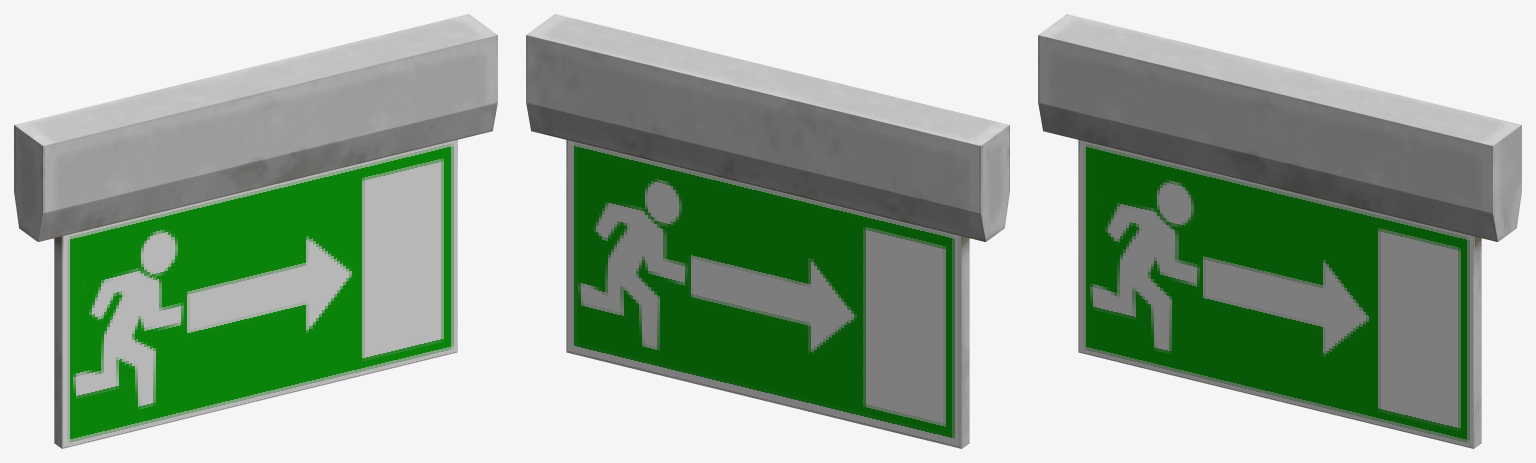
Rendered from Exit_sign.glb.
The picture shows the model from 3 angles, left to right: view 1: azimuth 30°, elevation 25°; view 2: azimuth 150°, elevation 25°; view 3: azimuth 330°, elevation 25°; orthographic projection.
Visible parts, largest first — view 1: Exit_sign.001; view 2: Exit_sign.001; view 3: Exit_sign.001.
Boxes of the visible parts, left/top/right/bottom form: Exit_sign.001: left=14, top=14, right=497, bottom=448; Exit_sign.001: left=526, top=14, right=1009, bottom=448; Exit_sign.001: left=1038, top=14, right=1521, bottom=448.
Size of the model in its own units: 0.5649 by 0.3772 by 0.0621.
1 material, 1 textured.
